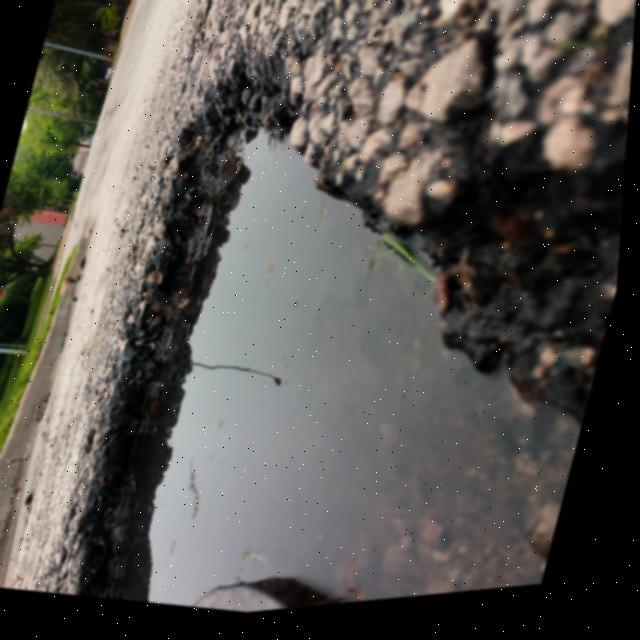pothole: (51, 54, 634, 634)
